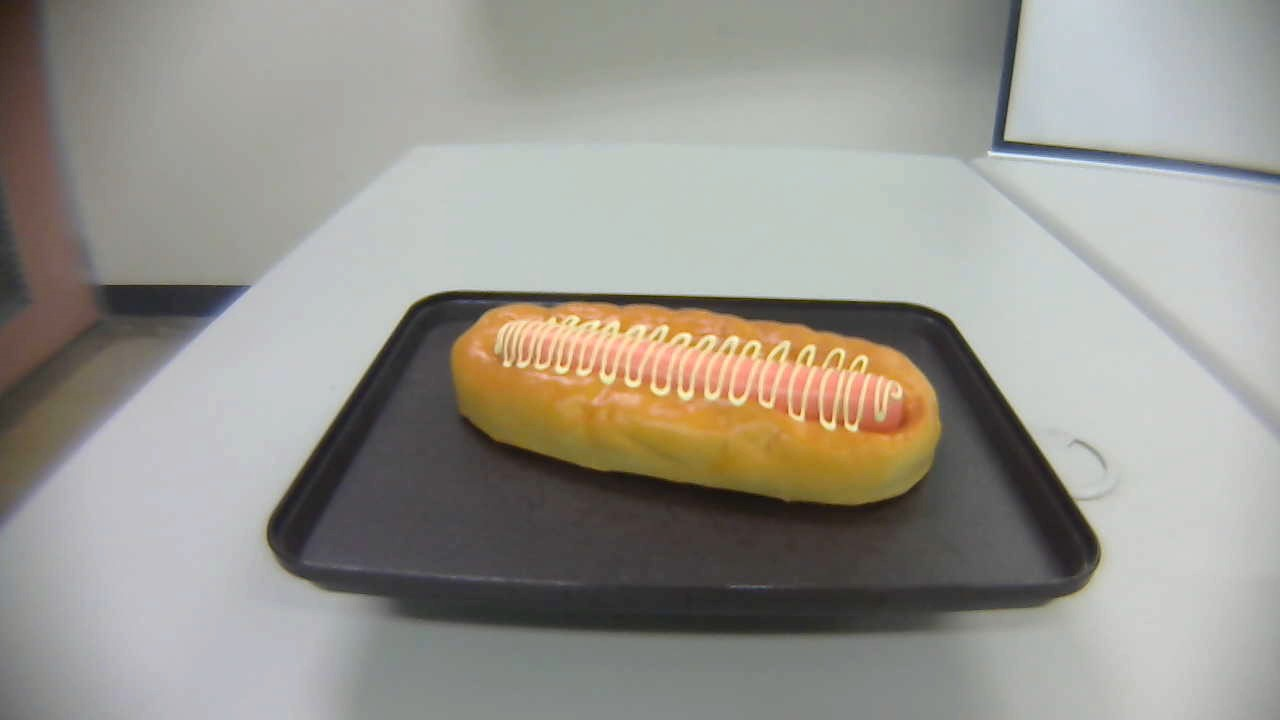hot dog: (448, 300, 944, 507)
